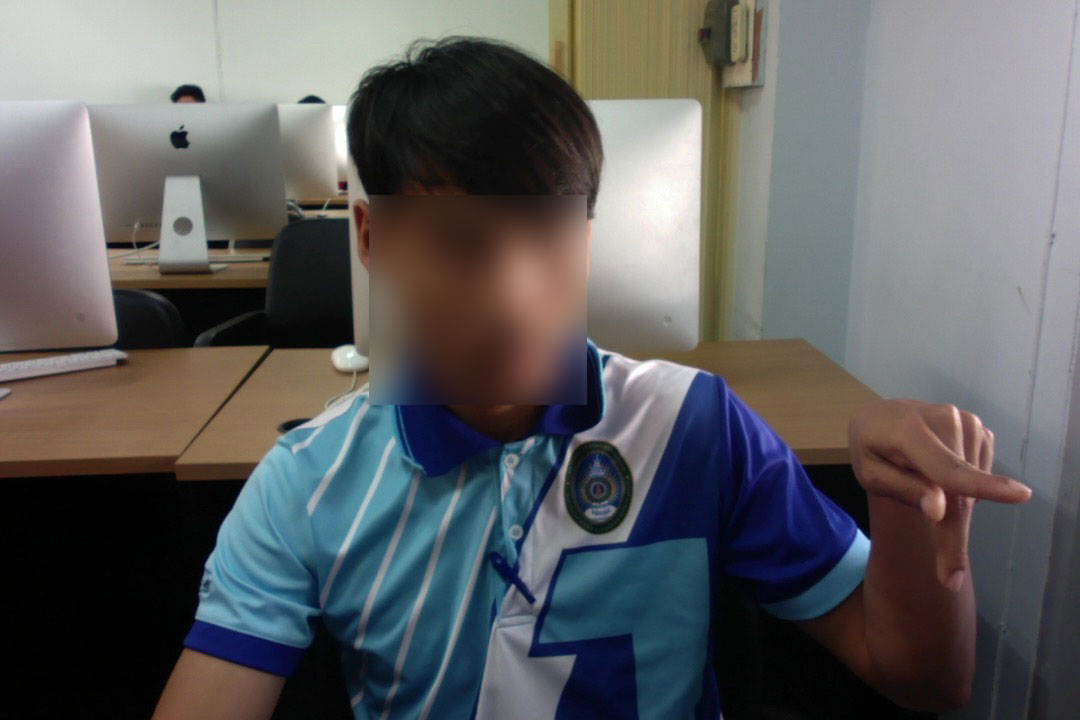por: (845, 380, 1041, 598)
